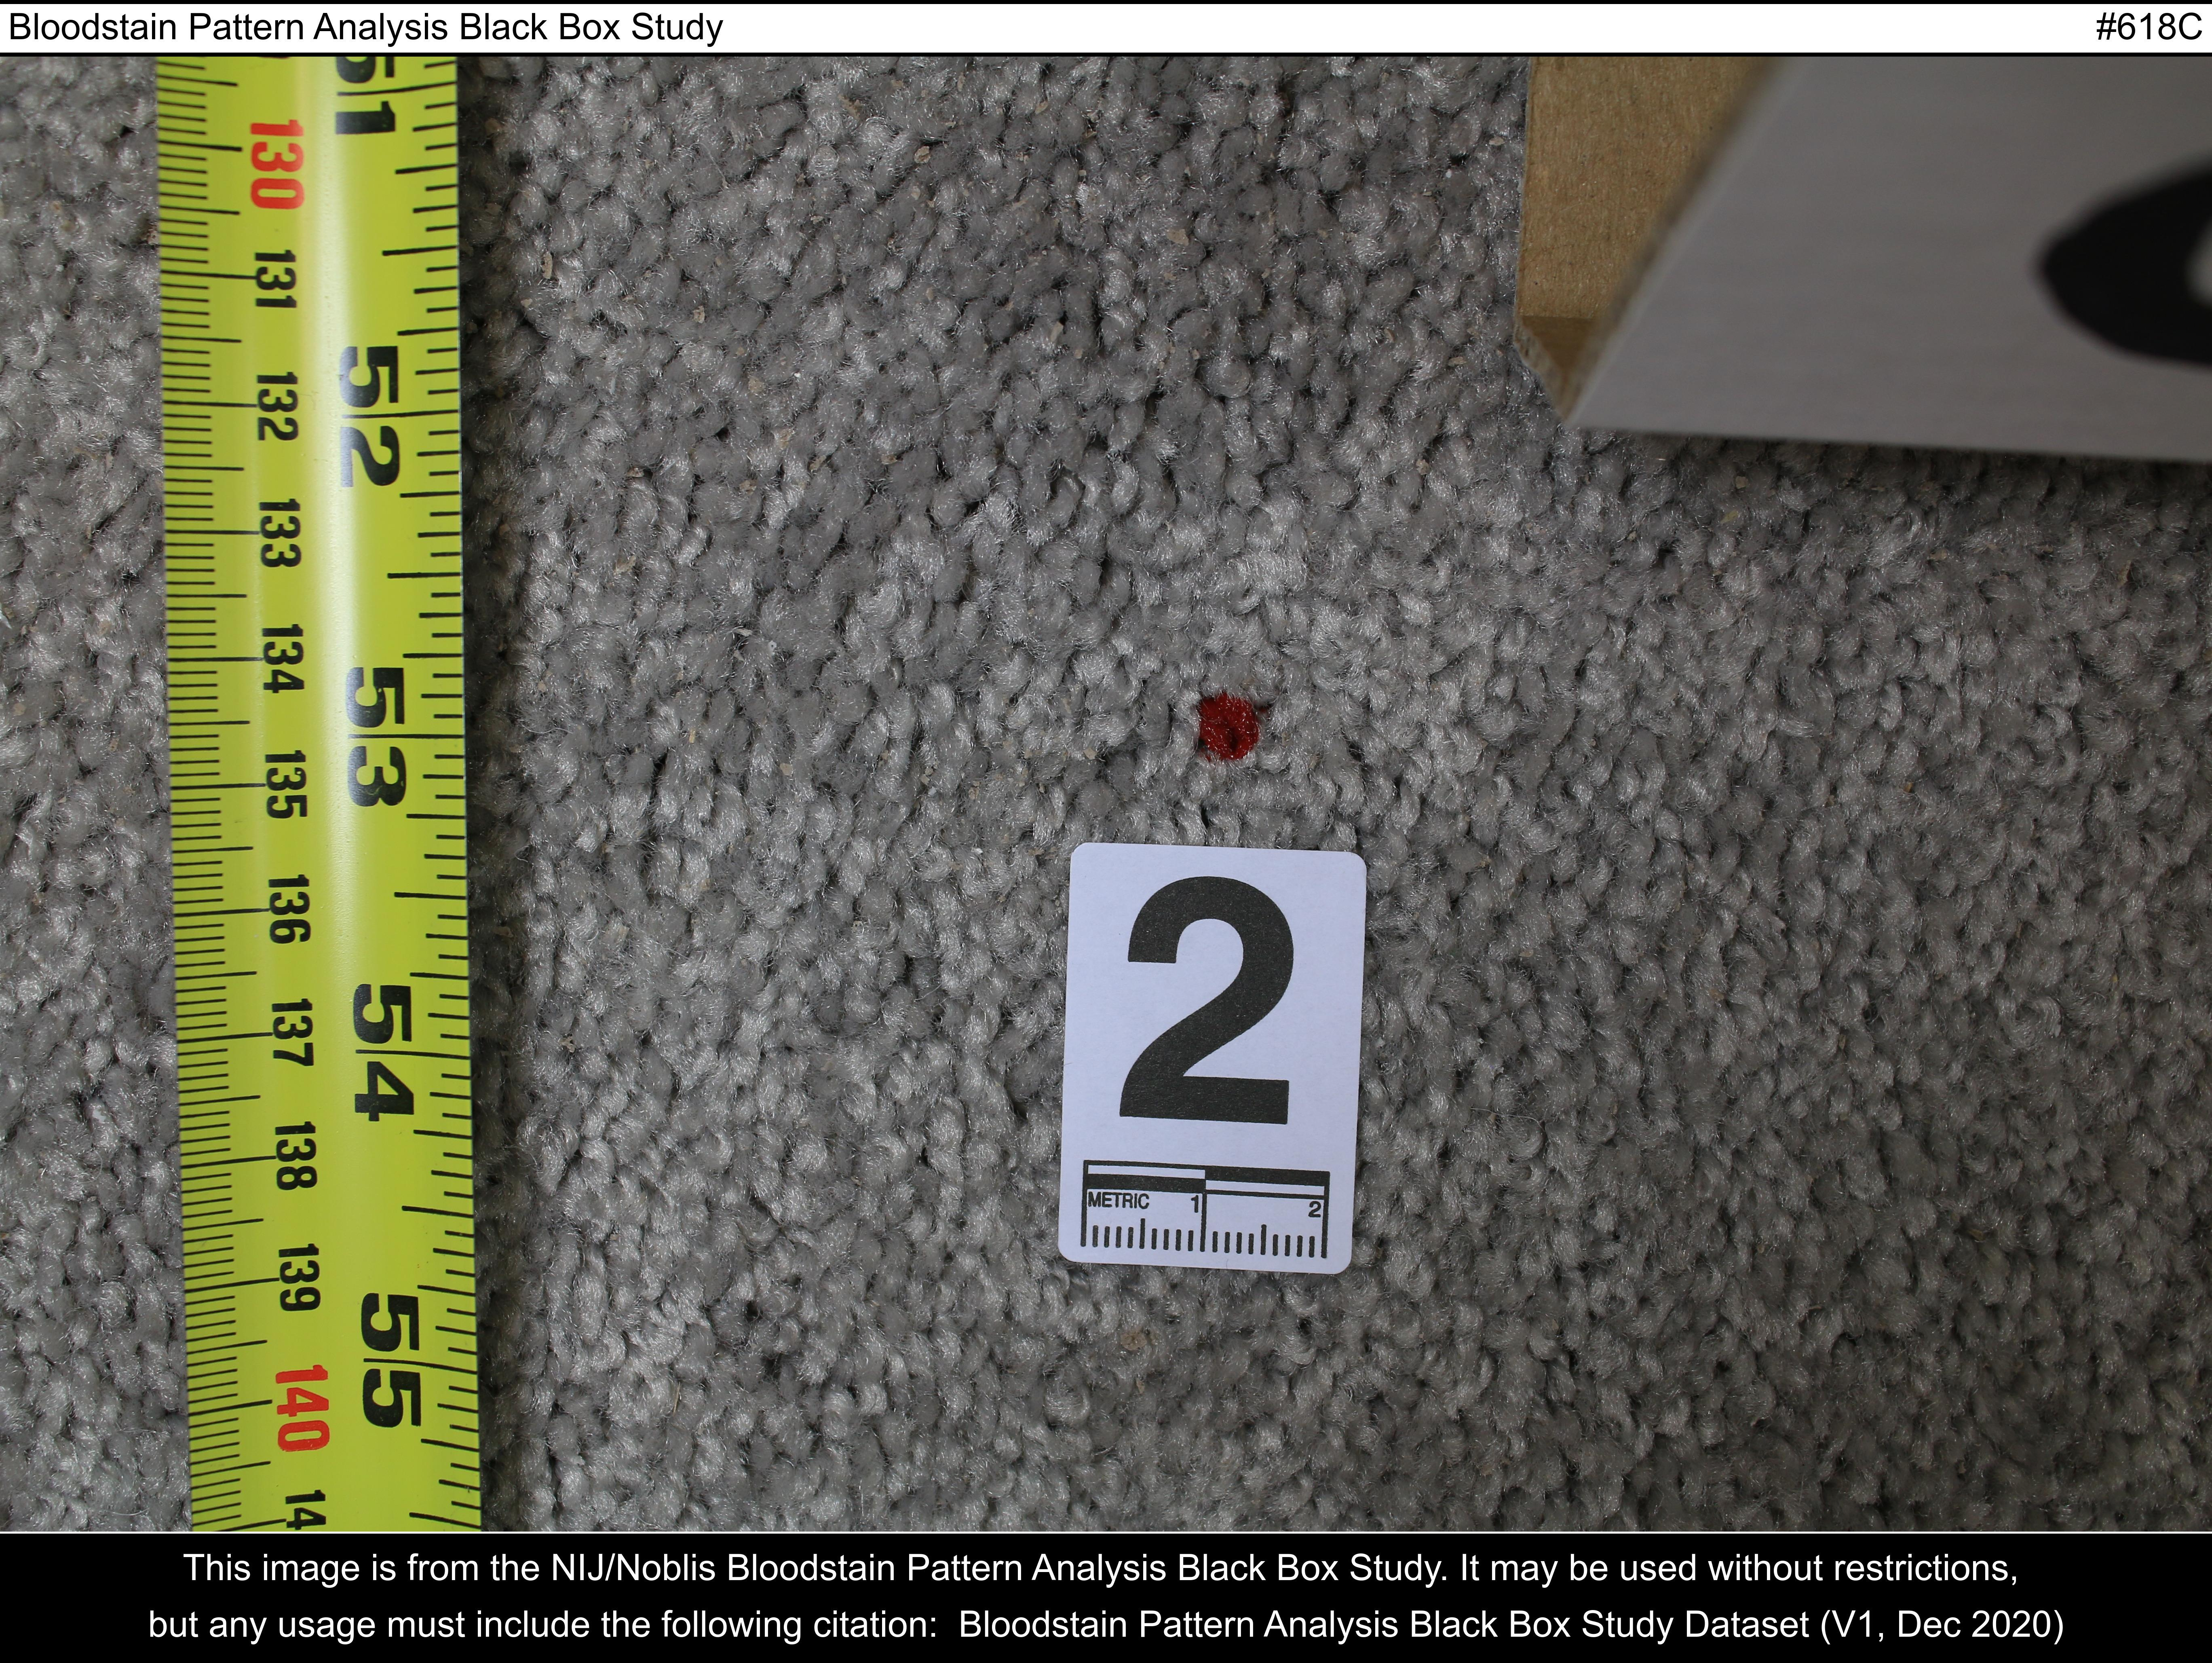Passive: (1178, 680, 1290, 767)
